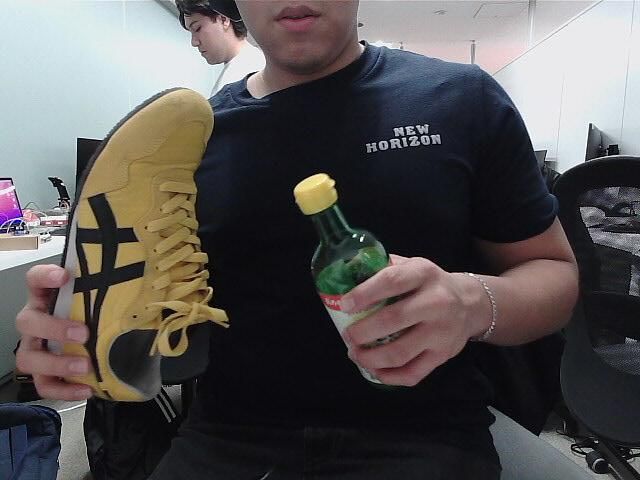Lemon_sapporo: (288, 172, 428, 391)
Shoes: (39, 79, 213, 406)
